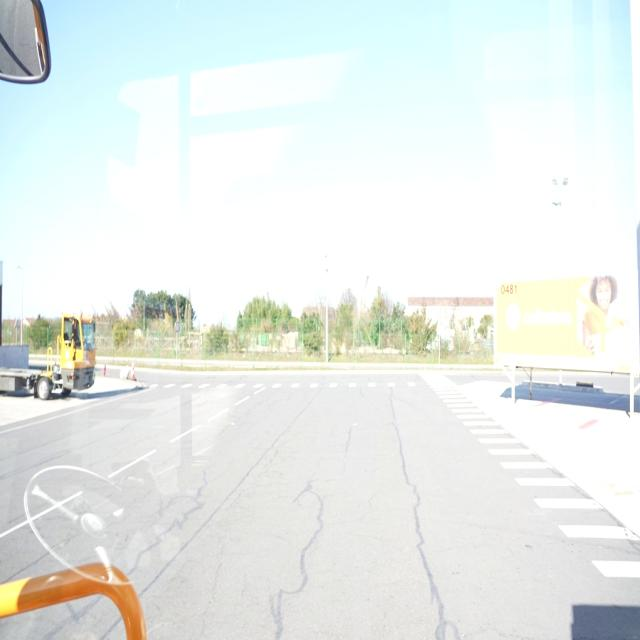Code: (498, 280, 520, 301)
